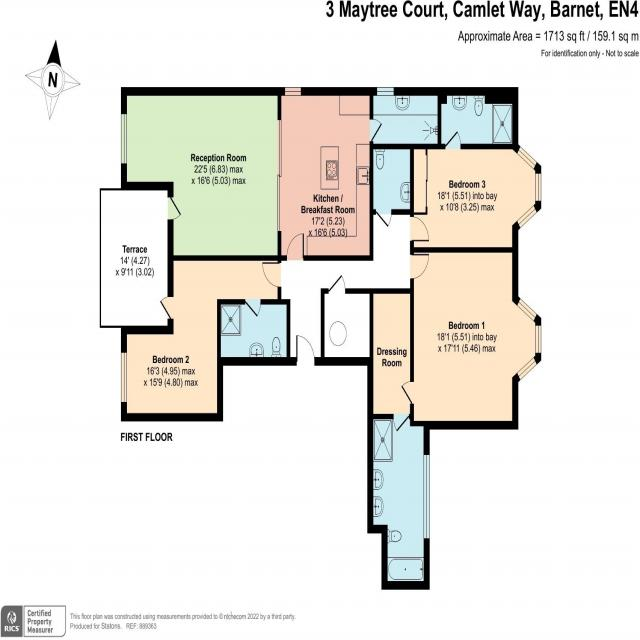DOOR: (295, 334, 316, 366), (409, 216, 430, 243), (262, 261, 282, 289), (410, 253, 429, 280), (286, 233, 304, 261), (393, 414, 410, 433)
ROOM: (120, 255, 282, 422), (401, 247, 541, 430), (277, 87, 383, 261), (410, 130, 542, 253)
SLIDING DOOR: (274, 114, 284, 236)
WINDOW: (423, 454, 430, 540), (516, 356, 537, 381), (517, 204, 538, 229), (516, 298, 537, 322), (517, 145, 537, 170), (120, 113, 127, 165), (120, 352, 127, 403), (535, 325, 541, 354), (535, 173, 541, 202), (377, 87, 394, 96), (285, 87, 301, 96)
